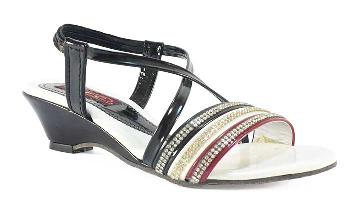Footwear: (19, 18, 341, 190)
